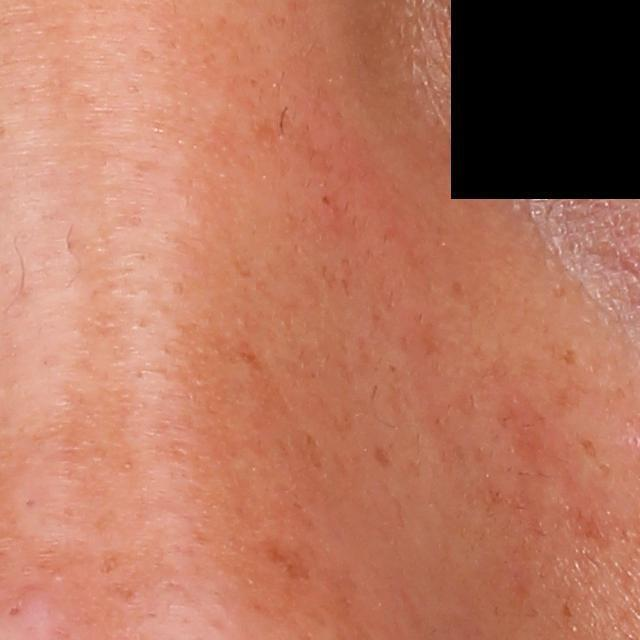melasma: (260, 533, 318, 586), (302, 428, 326, 472), (373, 444, 395, 473), (561, 346, 579, 365)
